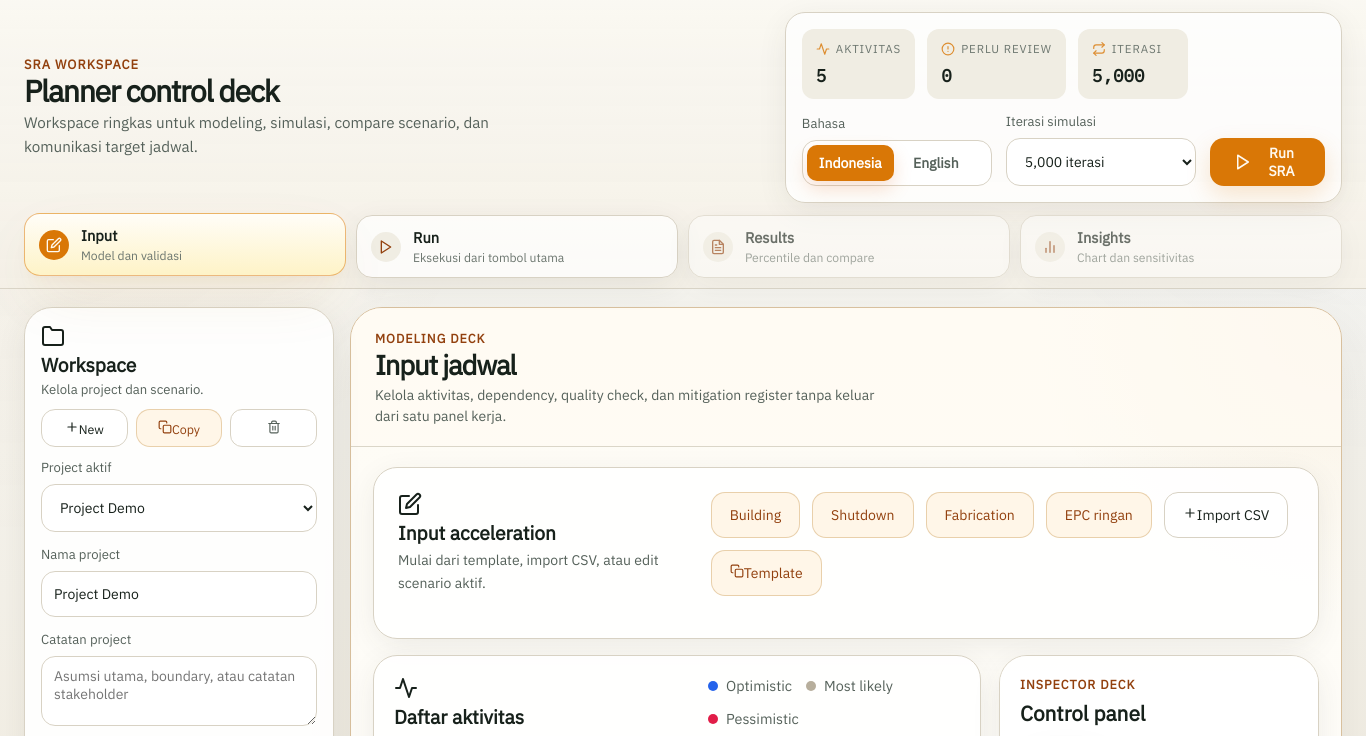
Test: App workflow redesign › toggles the main UI copy when language is switched
Check: the heading "Daftar aktivitas" is shown, box [394,704,524,729]
Click the button "English" at {"x": 936, "y": 163}, box [900,145,972,181]
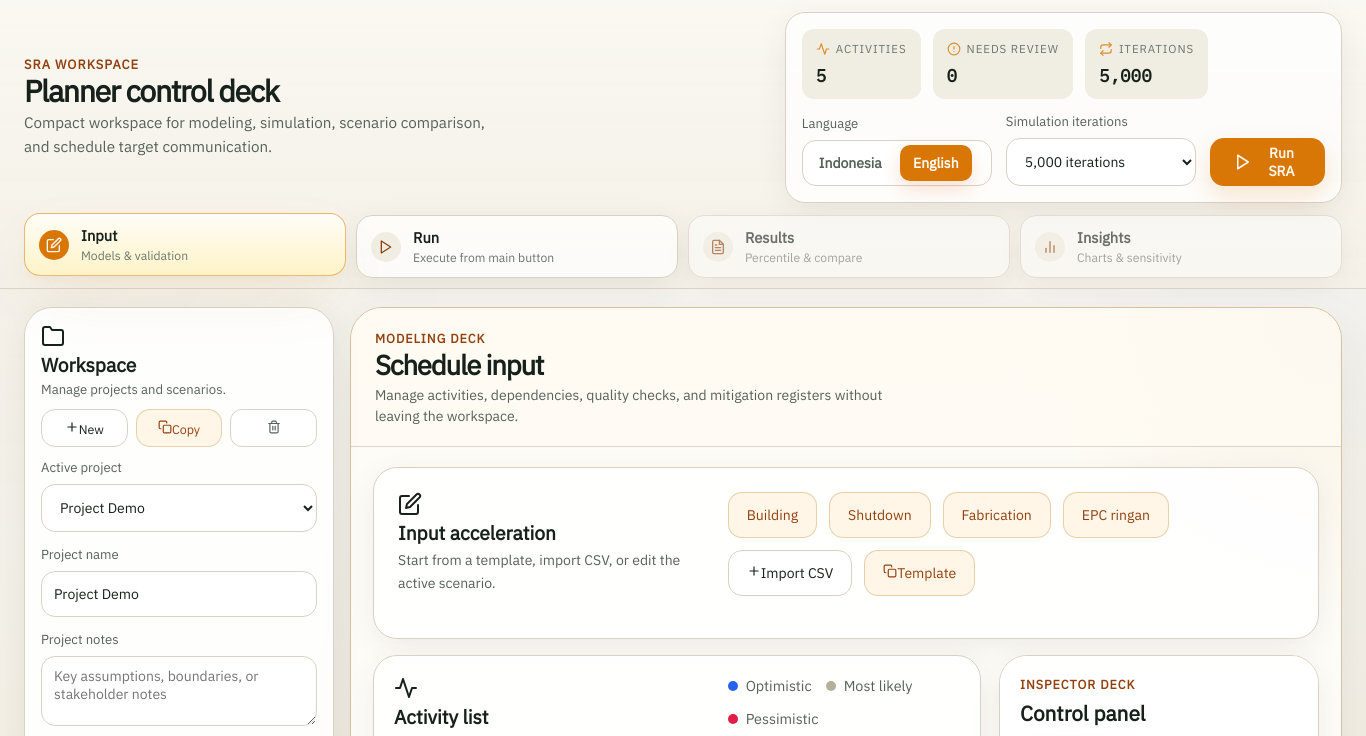
Check: the heading "Activity list" is shown, box [394,704,488,729]
